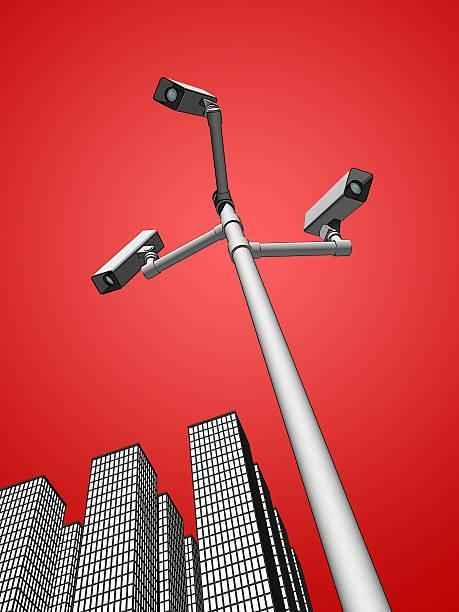camera: (282, 153, 383, 262), (115, 72, 237, 150), (73, 222, 175, 310)
